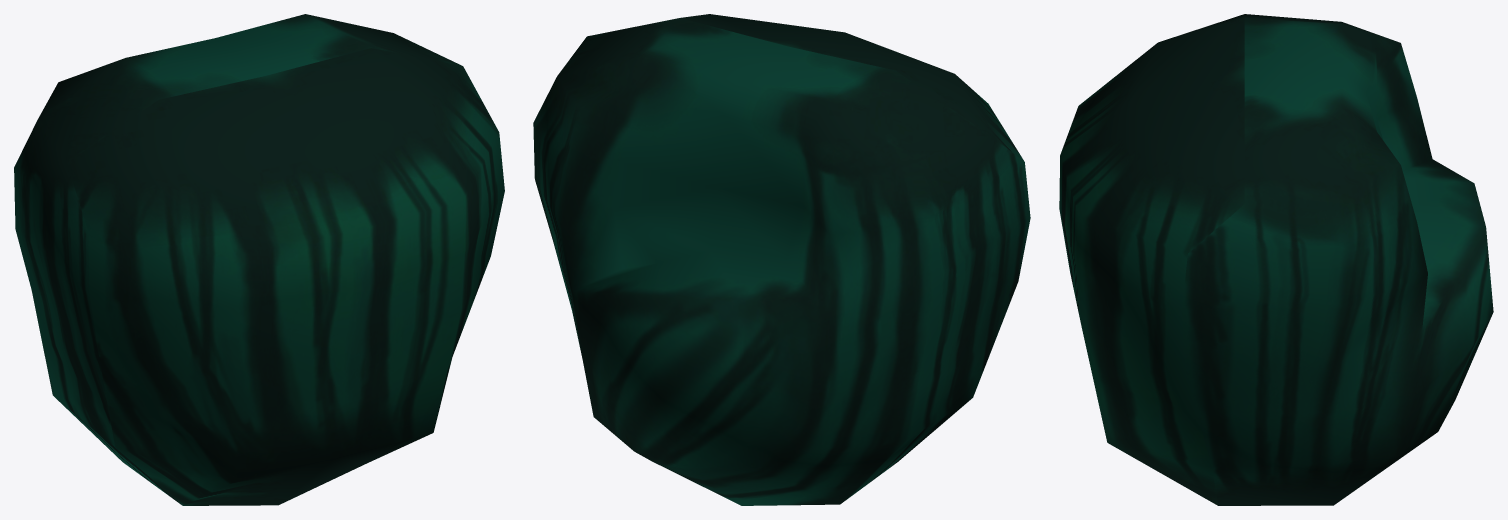
File: character_Head07.FBX
The picture shows the model from 3 angles, left to right: view 1: azimuth 30°, elevation 25°; view 2: azimuth 150°, elevation 25°; view 3: azimuth 270°, elevation 25°; orthographic projection. The views are drawn at different scales.
Parts seen in each view (by area): view 1: Sphere126; view 2: Sphere126; view 3: Sphere126.
Part boxes in pixels (<box>): Sphere126: <box>14,14,504,505</box>; Sphere126: <box>533,14,1030,505</box>; Sphere126: <box>1059,14,1493,505</box>.
Size of the model in its own units: 47.24 by 46.1 by 43.46.
